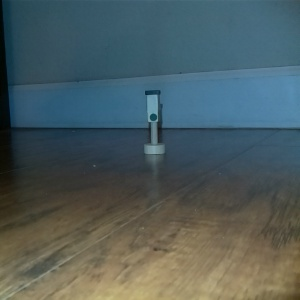traffic light green: (141, 89, 166, 156)
